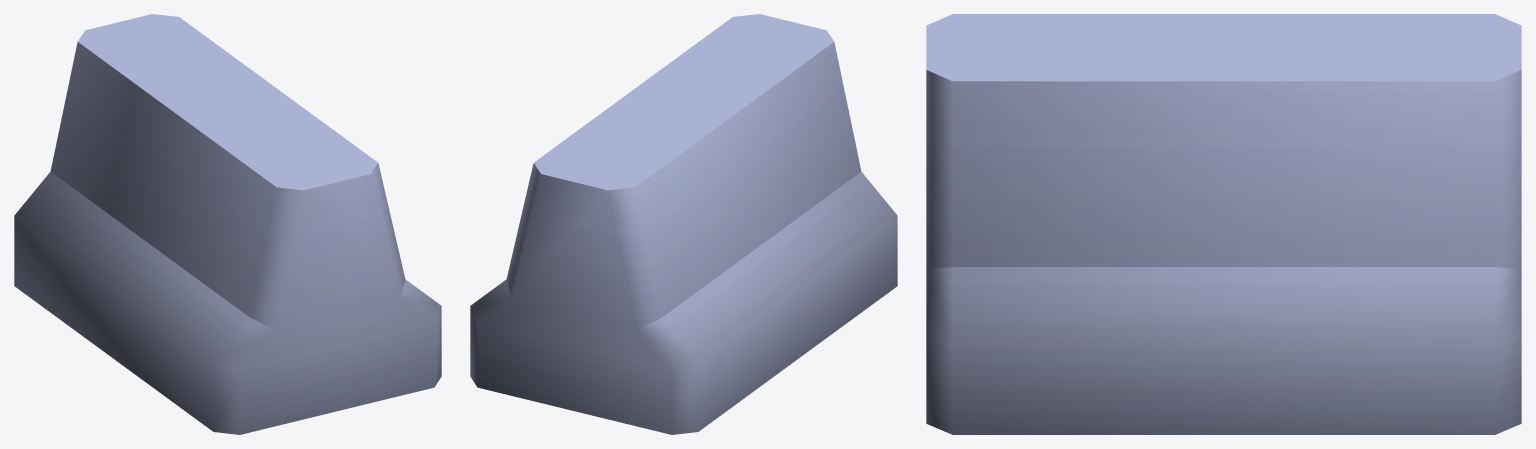
Rendered from construction-barrier.glb.
3 views of the same model, side by side, from view 1: azimuth 30°, elevation 25°; view 2: azimuth 150°, elevation 25°; view 3: azimuth 270°, elevation 25° (orthographic). The views are drawn at different scales.
Visible parts, largest first — view 1: construction-barrier; view 2: construction-barrier; view 3: construction-barrier.
Part boxes in pixels (<box>): construction-barrier: <box>14,14,441,434</box>; construction-barrier: <box>470,14,897,434</box>; construction-barrier: <box>926,14,1521,434</box>.
Size of the model in its own units: 0.1355 by 0.13 by 0.225.
Materials: 1 (1 with a texture image).
